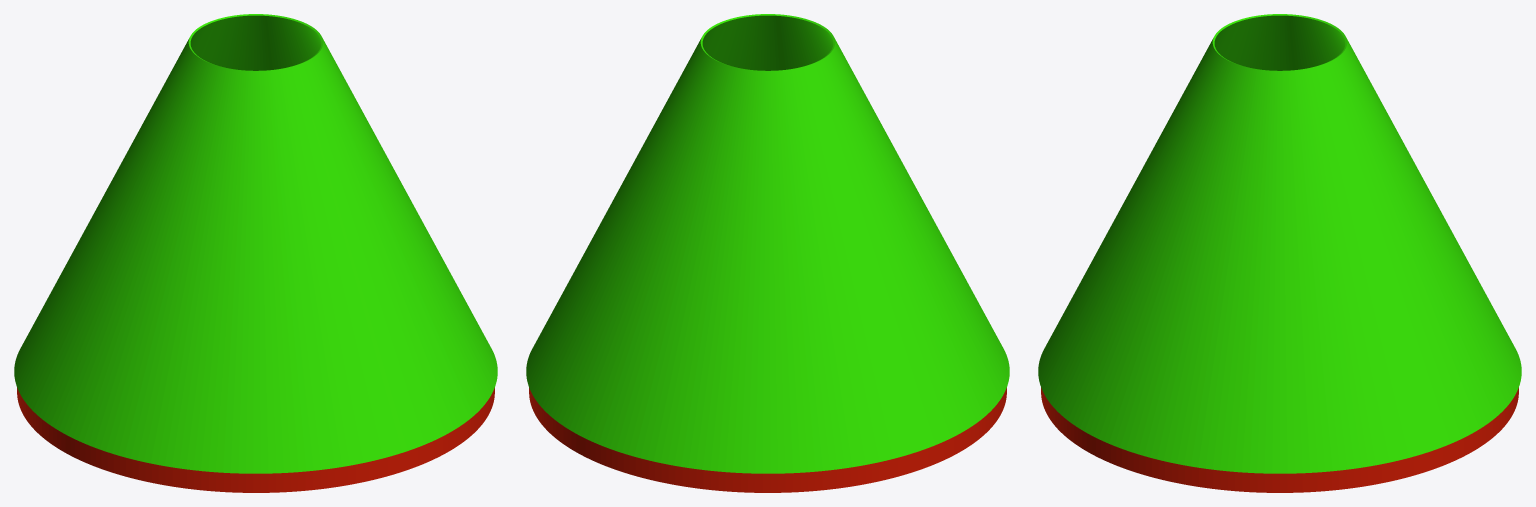
File: LavaPit2.fbx
The picture shows the model from 3 angles, left to right: view 1: azimuth 30°, elevation 25°; view 2: azimuth 150°, elevation 25°; view 3: azimuth 270°, elevation 25°; orthographic projection.
Parts seen in each view (by area): view 1: Cylinder, Cylinder.001; view 2: Cylinder, Cylinder.001; view 3: Cylinder, Cylinder.001.
Boxes of the visible parts, bbox=[...] form: Cylinder: bbox=[14, 14, 497, 473]; Cylinder.001: bbox=[17, 387, 494, 492]; Cylinder: bbox=[526, 14, 1009, 473]; Cylinder.001: bbox=[529, 387, 1006, 492]; Cylinder: bbox=[1038, 14, 1521, 473]; Cylinder.001: bbox=[1041, 387, 1518, 492].
Bounding box in the file's own units: 19925 × 15893 × 19925.
